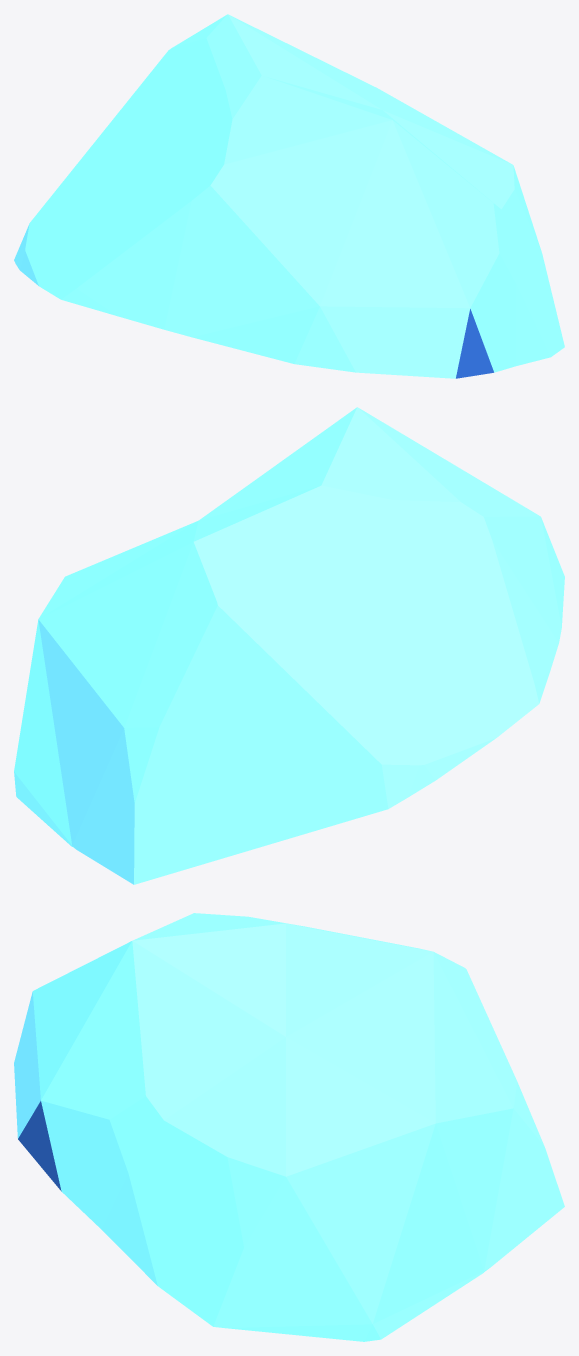
File: core_shell_upper.glb
3 renders of one model, top to bottom at view 1: azimuth 30°, elevation 25°; view 2: azimuth 150°, elevation 25°; view 3: azimuth 270°, elevation 25°, orthographic. The views are drawn at different scales.
Parts seen in each view (by area): view 1: core_shell_upper; view 2: core_shell_upper; view 3: core_shell_upper.
Part boxes in pixels (left/top/right/bottom): core_shell_upper: left=14, top=14, right=564, bottom=378; core_shell_upper: left=14, top=407, right=564, bottom=884; core_shell_upper: left=14, top=913, right=564, bottom=1341.
Bounding box in the file's own units: 0.8572 × 0.5792 × 0.9379.
